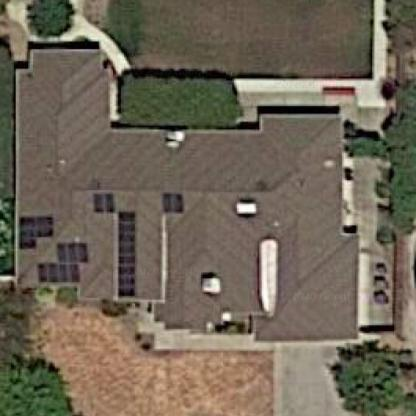solar_panel: (92, 189, 143, 299), (38, 241, 89, 284), (19, 211, 58, 253)
